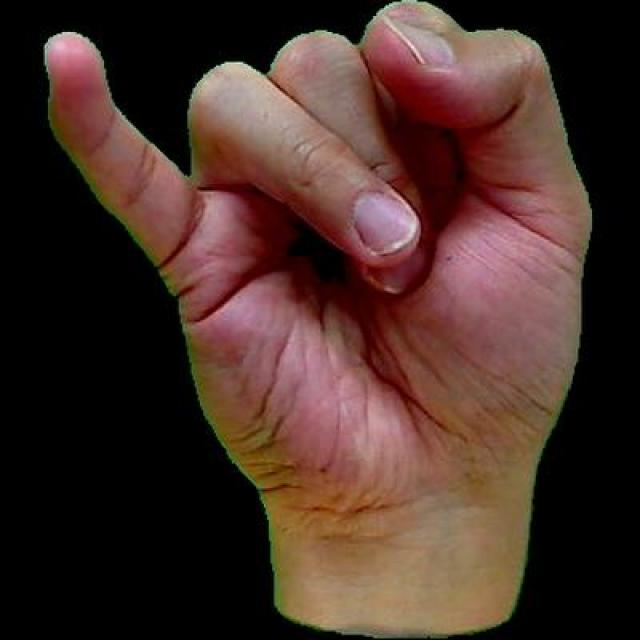j: (22, 0, 613, 637)
